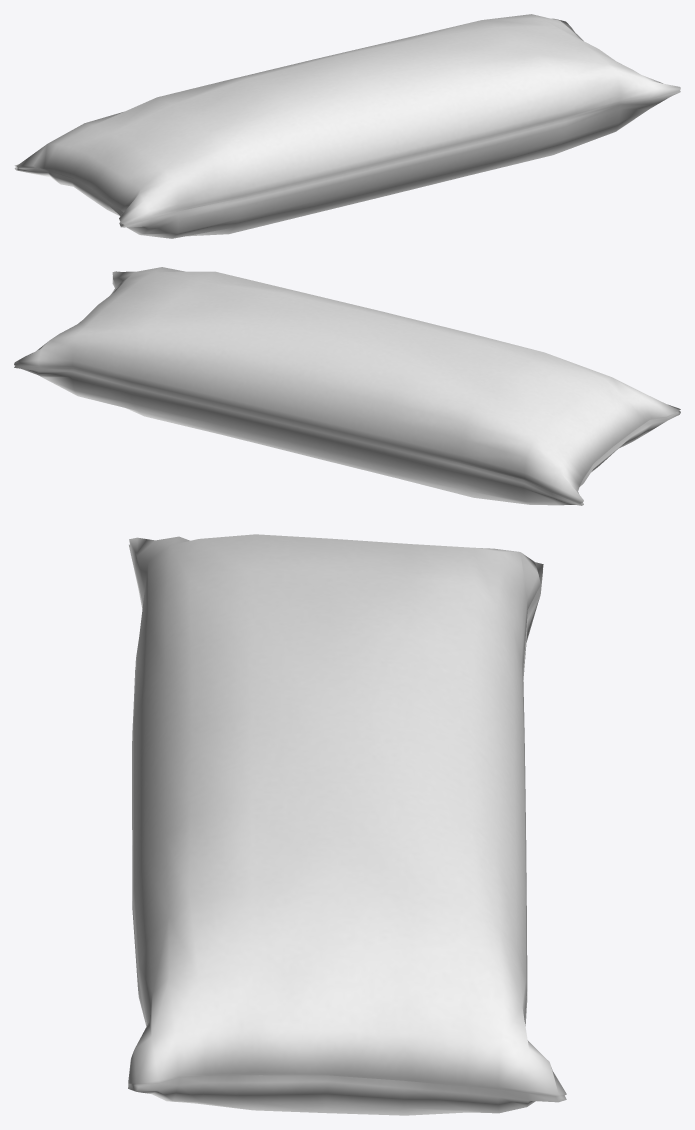
File: Pillow02.fbx
3 views of the same model, one above another, from view 1: azimuth 30°, elevation 25°; view 2: azimuth 150°, elevation 25°; view 3: azimuth 270°, elevation 25° (orthographic). The views are drawn at different scales.
Visible parts, largest first — view 1: prop_Pillow; view 2: prop_Pillow; view 3: prop_Pillow.
Part boxes in pixels (x1,y1,x2,y2): prop_Pillow: (14,14,680,238); prop_Pillow: (14,267,680,505); prop_Pillow: (128,534,566,1115).
Size of the model in its own units: 72.12 by 14.19 by 24.28.
